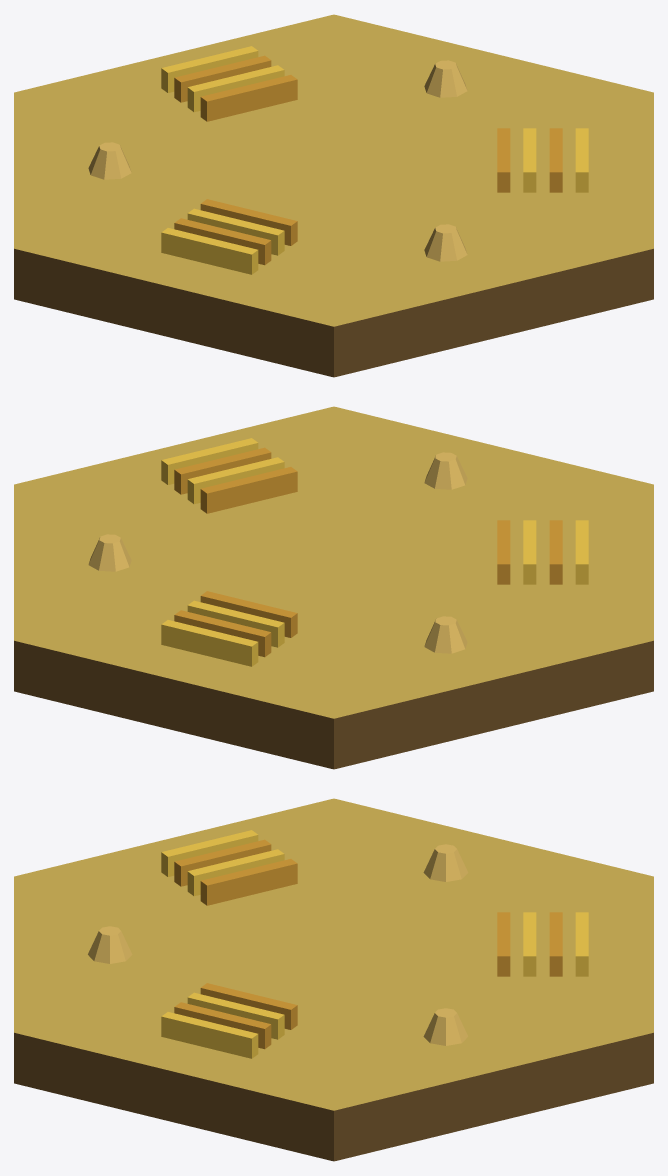
File: fields.obj
3 views of the same model, one above another, from view 1: azimuth 30°, elevation 25°; view 2: azimuth 150°, elevation 25°; view 3: azimuth 270°, elevation 25° (orthographic).
Visible parts, largest first — view 1: fields; view 2: fields; view 3: fields.
Boxes of the visible parts, bbox=[...] form: fields: bbox=[14, 14, 653, 377]; fields: bbox=[14, 406, 653, 769]; fields: bbox=[14, 798, 653, 1161].
Size of the model in its own units: 1.98 by 0.22 by 1.71.
